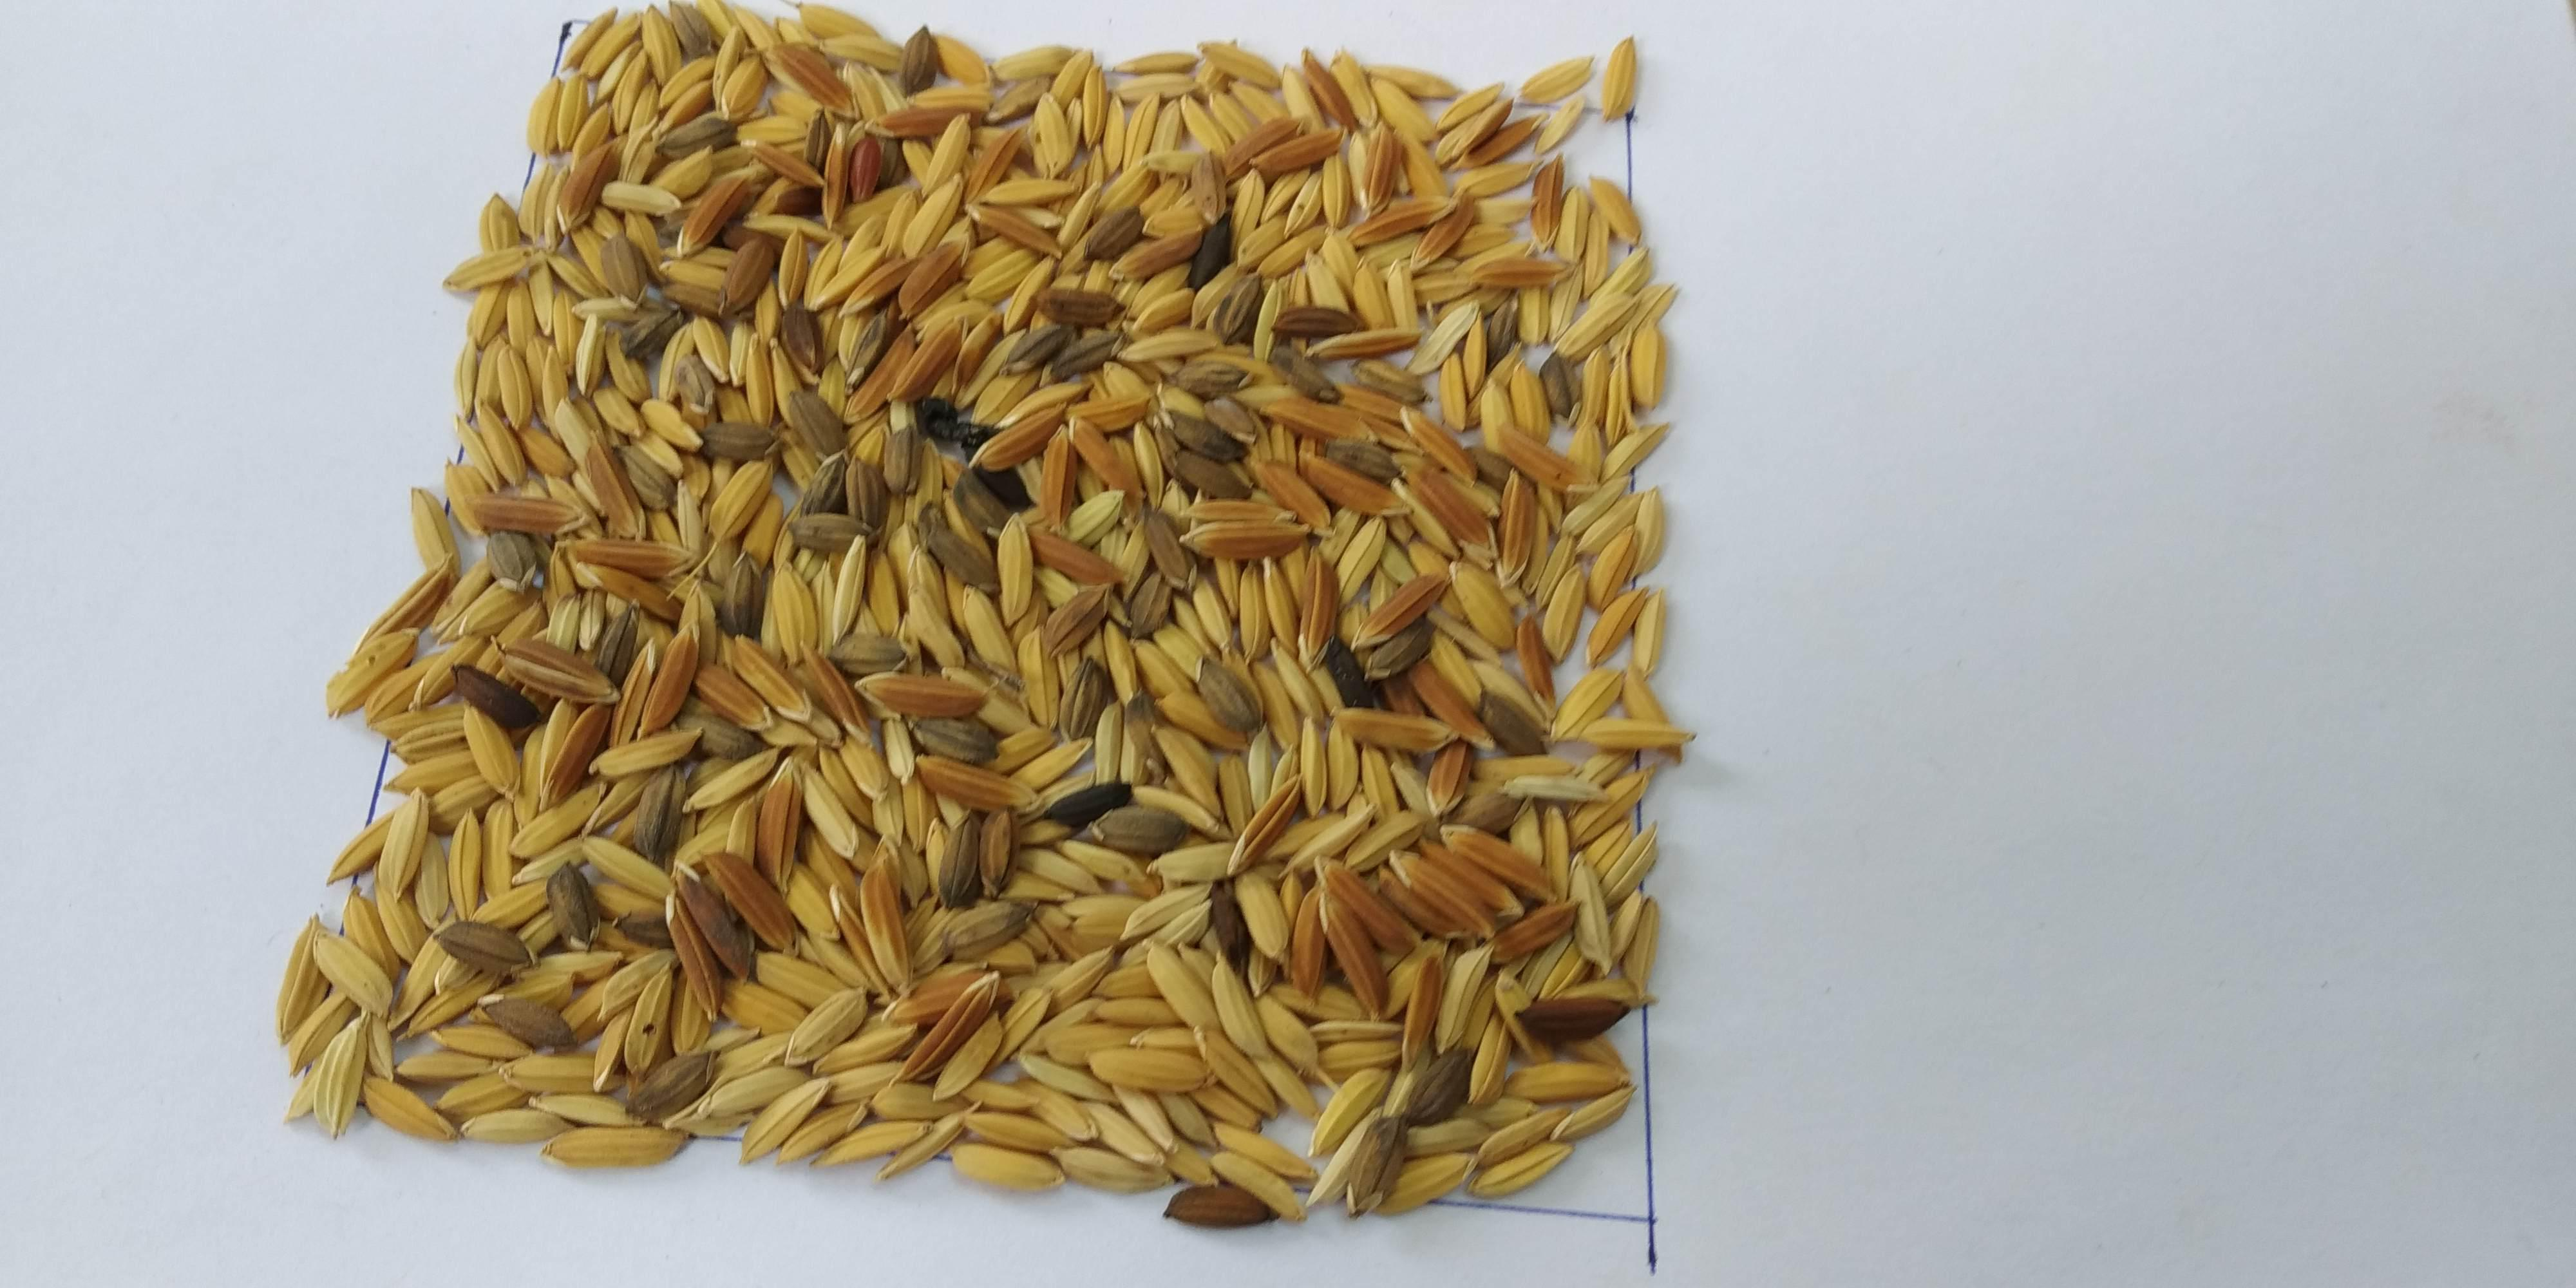impure: (555, 97, 1561, 1101)
